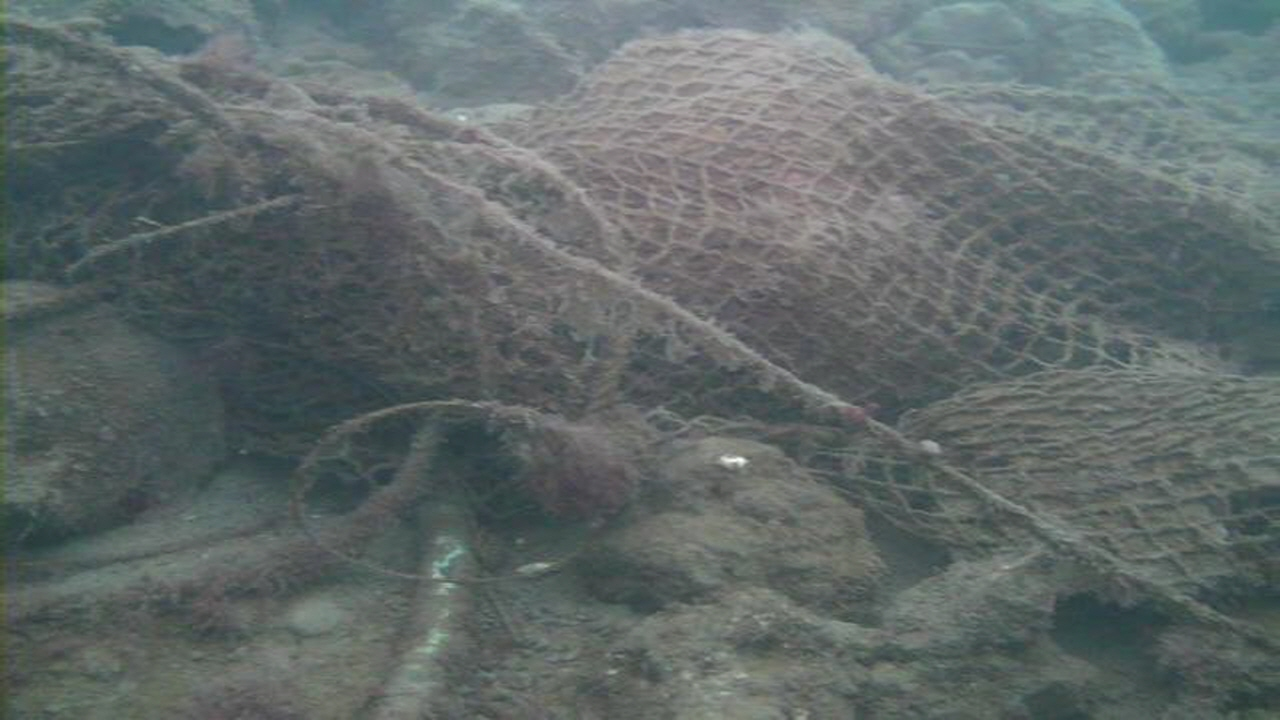fish net: (0, 30, 1280, 595)
